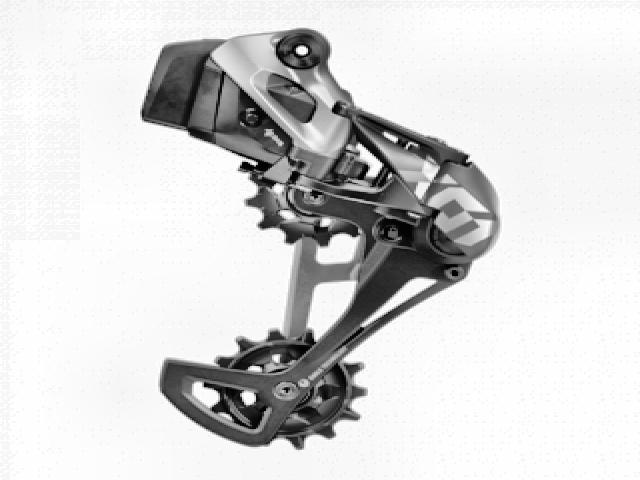rear_derailleur: (136, 24, 504, 454)
